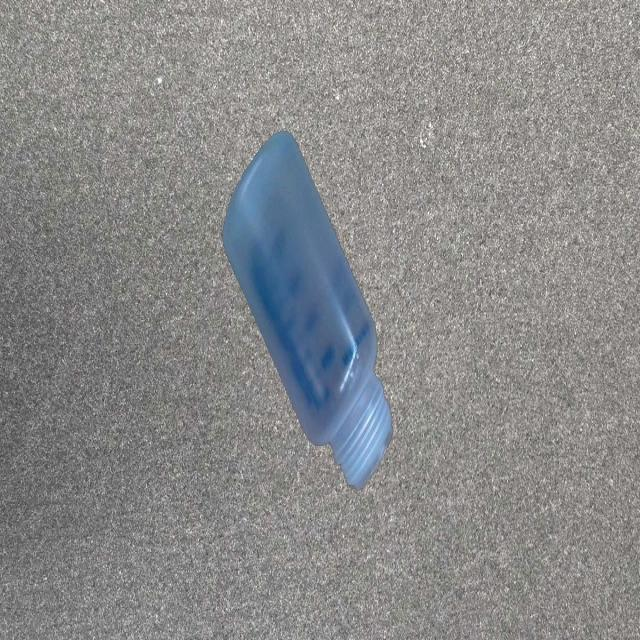bottle: (221, 127, 395, 497)
